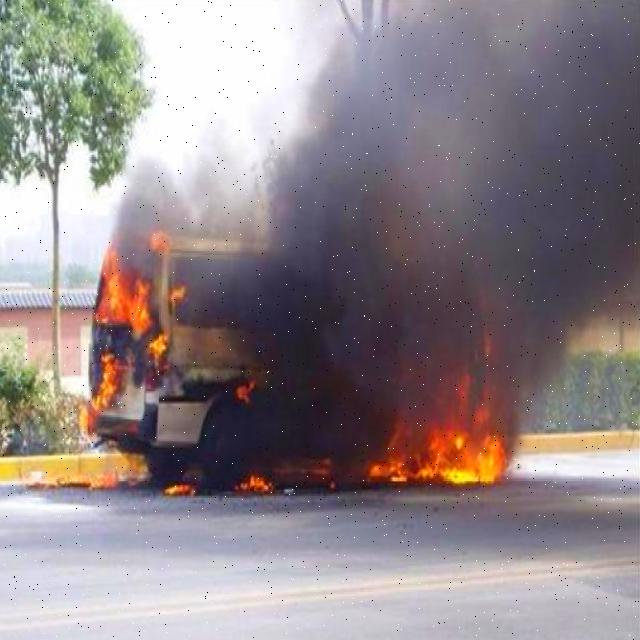fire: (76, 257, 178, 421), (380, 388, 512, 483)
smoke: (254, 0, 640, 397)
